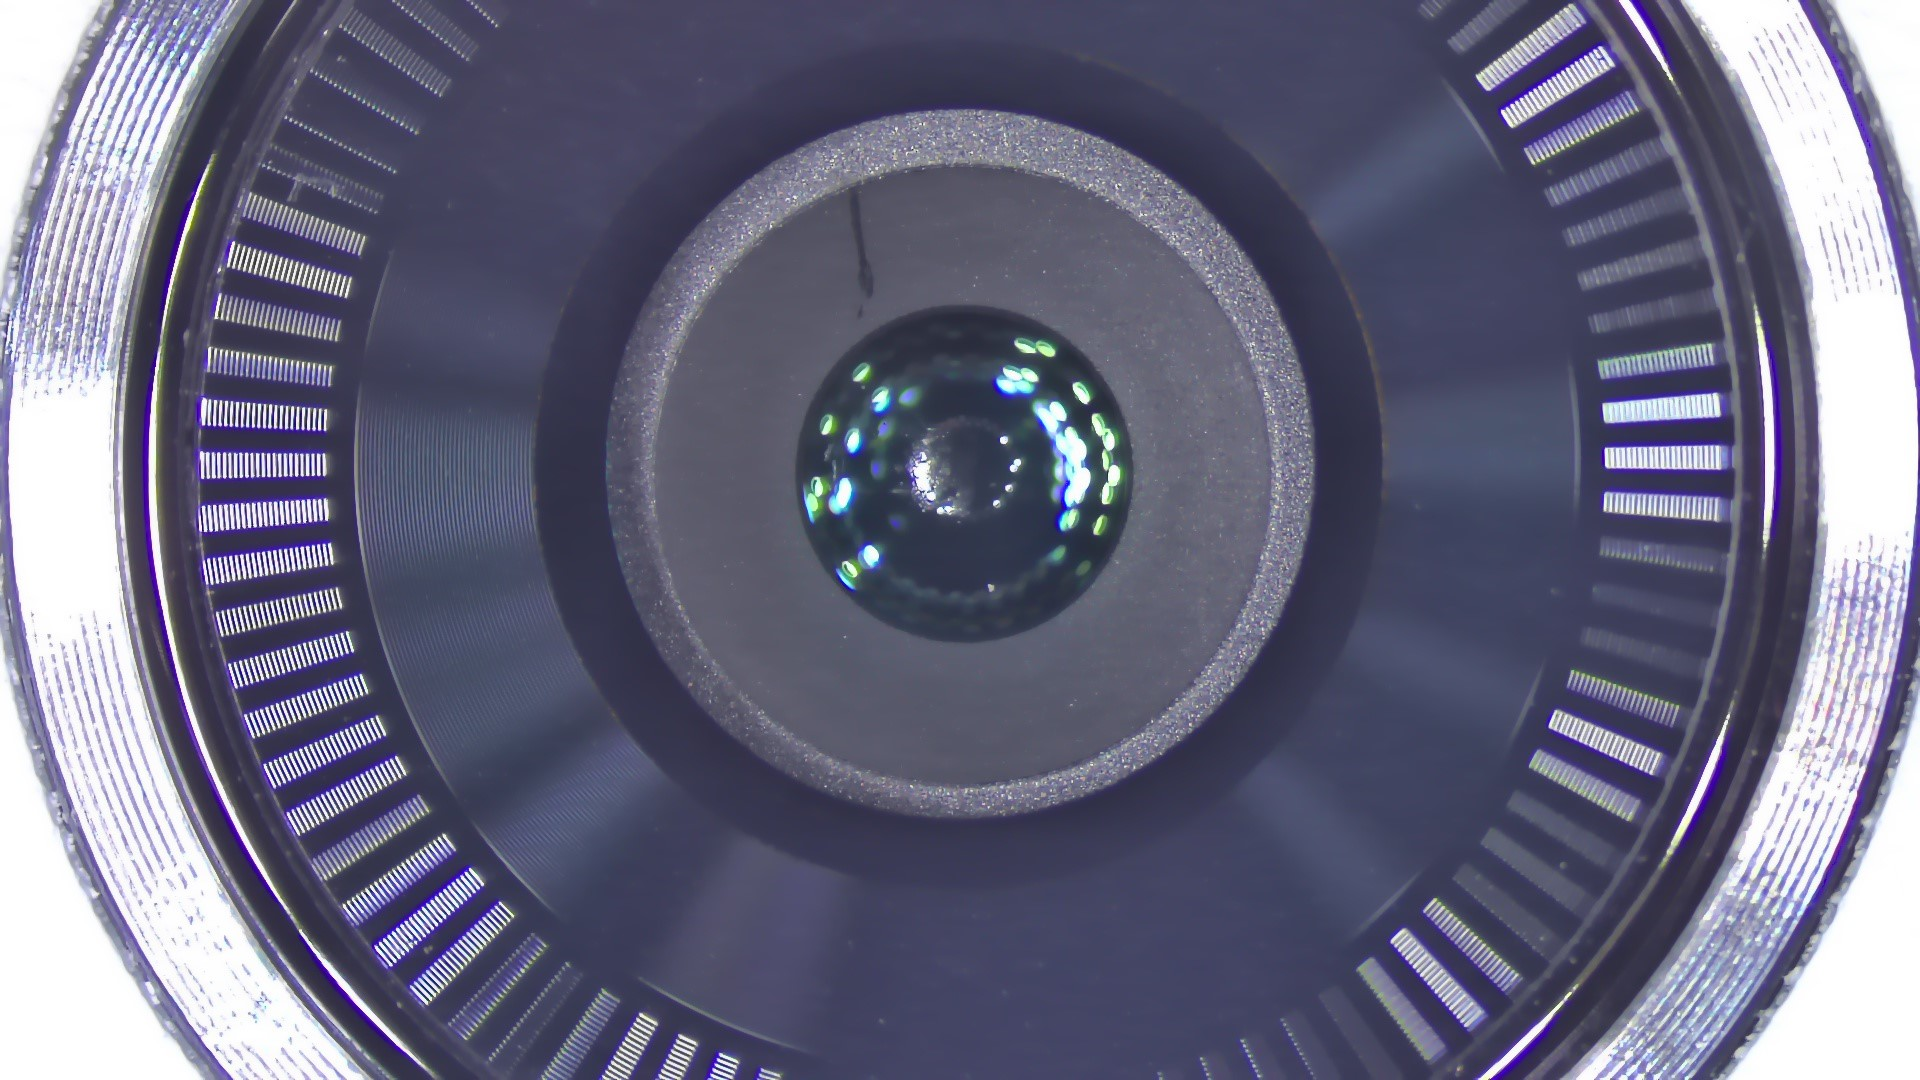crack: (833, 185, 889, 326)
